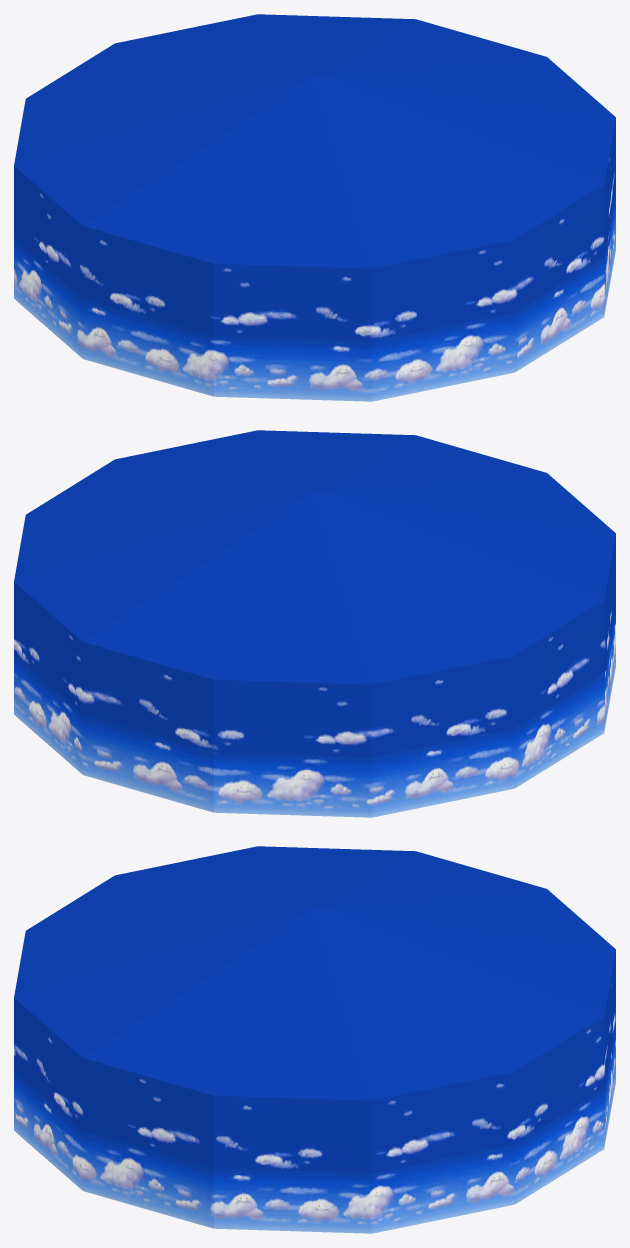
File: old_yoshi_gc_V.glb
The picture shows the model from 3 angles, top to bottom: view 1: azimuth 30°, elevation 25°; view 2: azimuth 150°, elevation 25°; view 3: azimuth 270°, elevation 25°; orthographic projection.
Parts seen in each view (by area): view 1: old_yoshi_gc_V; view 2: old_yoshi_gc_V; view 3: old_yoshi_gc_V.
Part boxes in pixels (<box>): old_yoshi_gc_V: <box>14,14,615,401</box>; old_yoshi_gc_V: <box>14,430,615,817</box>; old_yoshi_gc_V: <box>14,846,615,1233</box>.
Size of the model in its own units: 1343 by 490 by 1343.
1 material, 1 textured.
